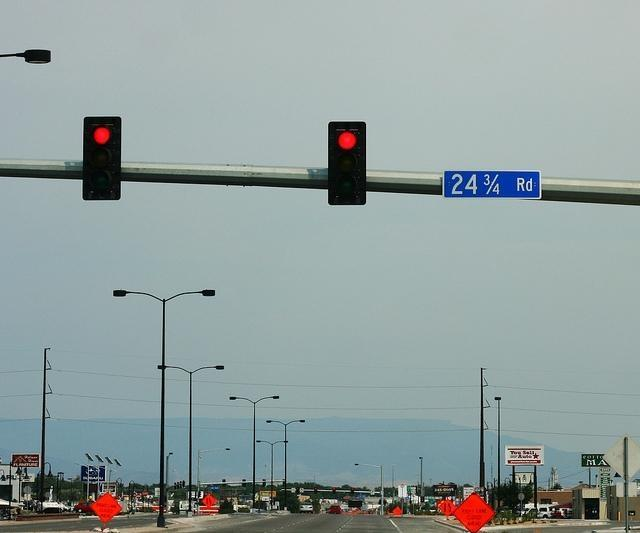car: (521, 507, 552, 518), (551, 508, 572, 519), (75, 502, 93, 513), (298, 502, 314, 514), (329, 504, 342, 514), (23, 500, 33, 510)
